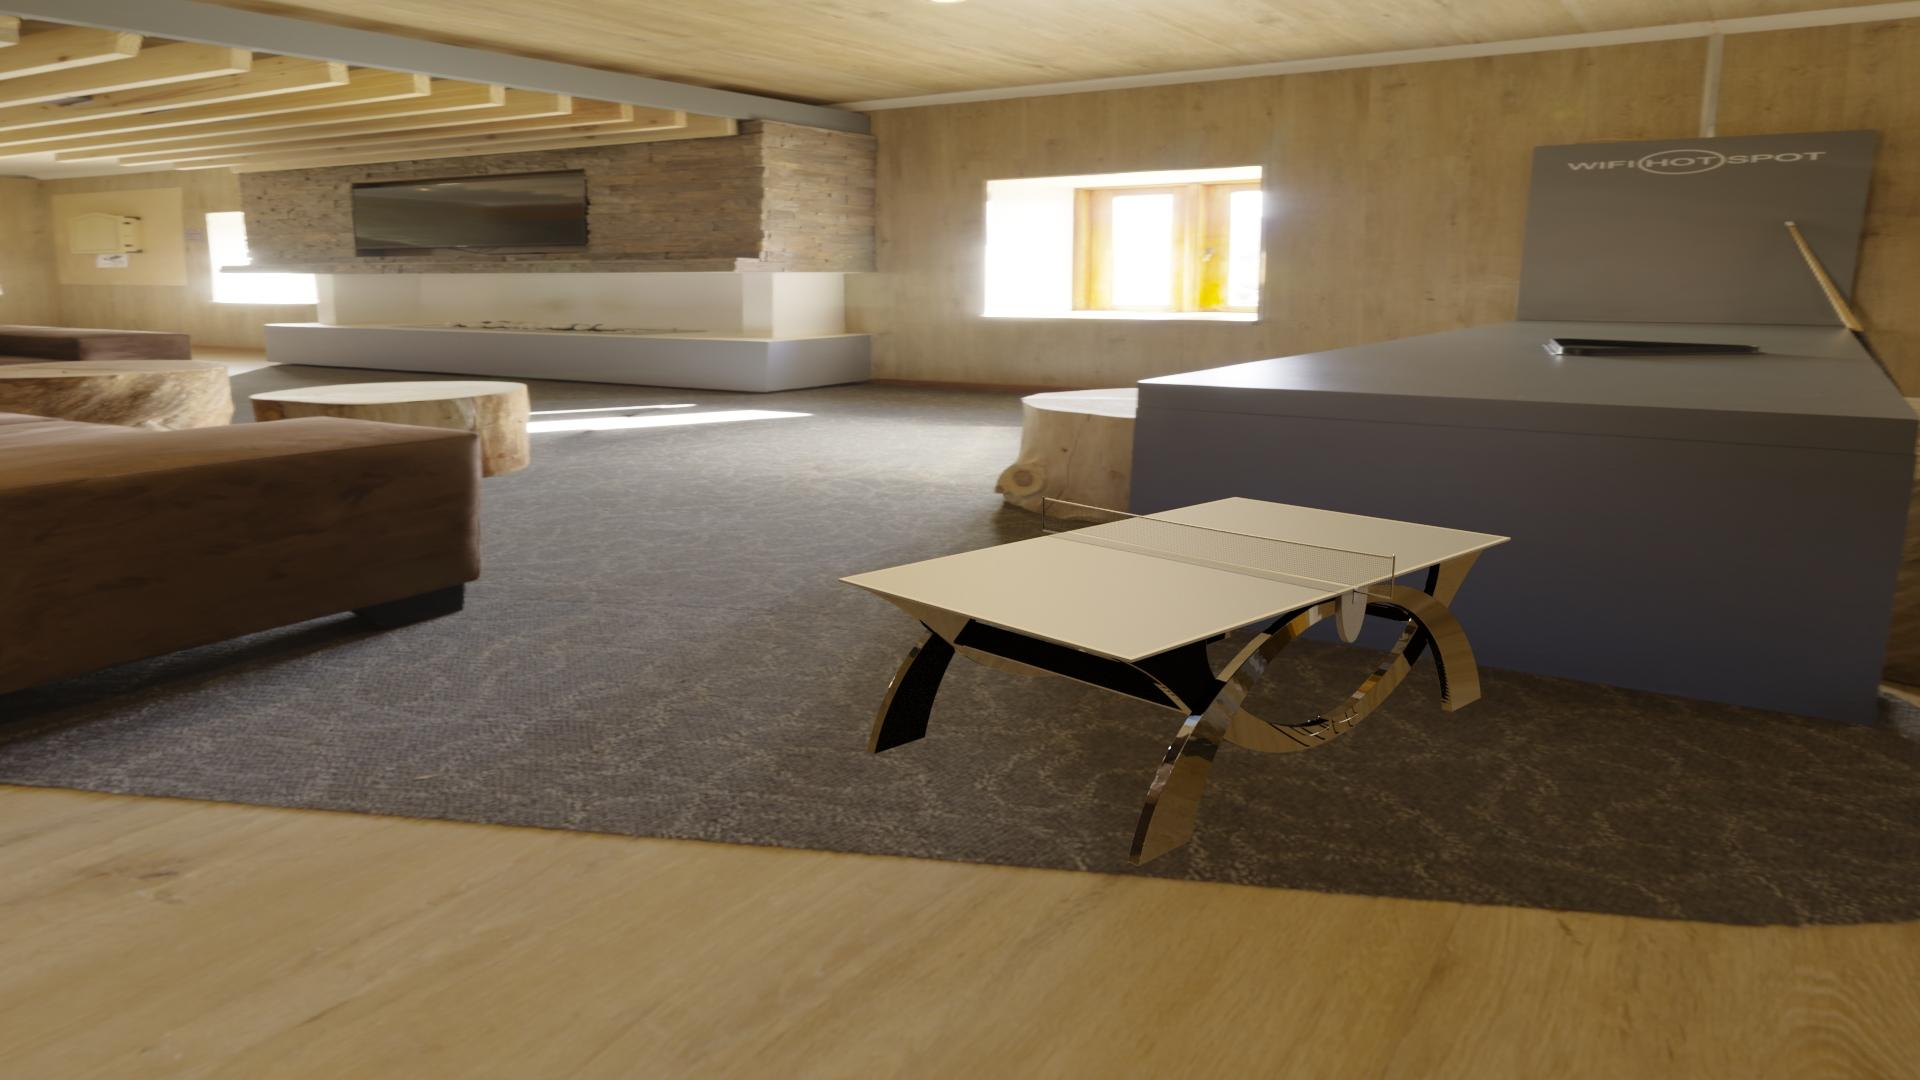table: (845, 498, 1505, 657)
